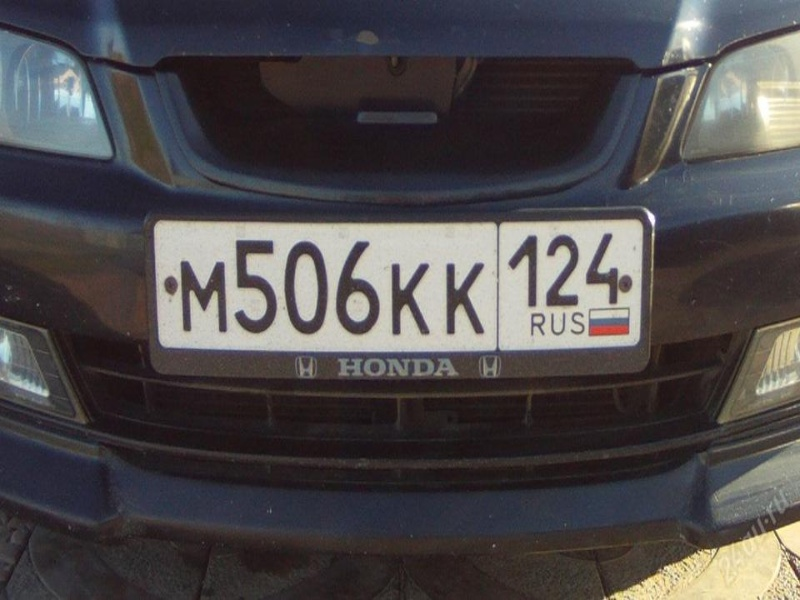car: (1, 1, 800, 551)
plate: (150, 220, 642, 346)
